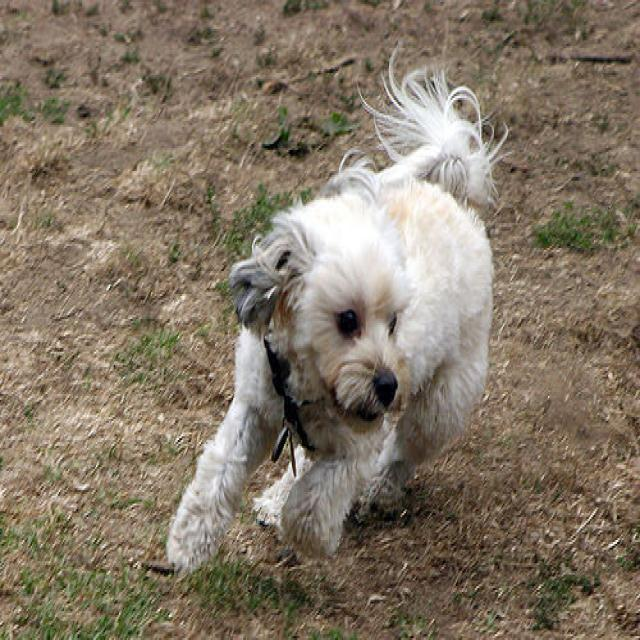dog-havanese: (157, 13, 515, 577)
